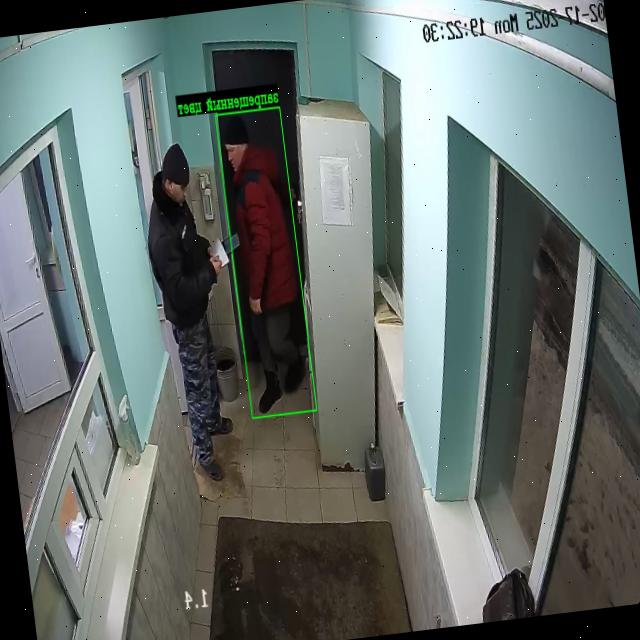Person: (147, 143, 232, 480)
Red uniform: (222, 115, 306, 413)
